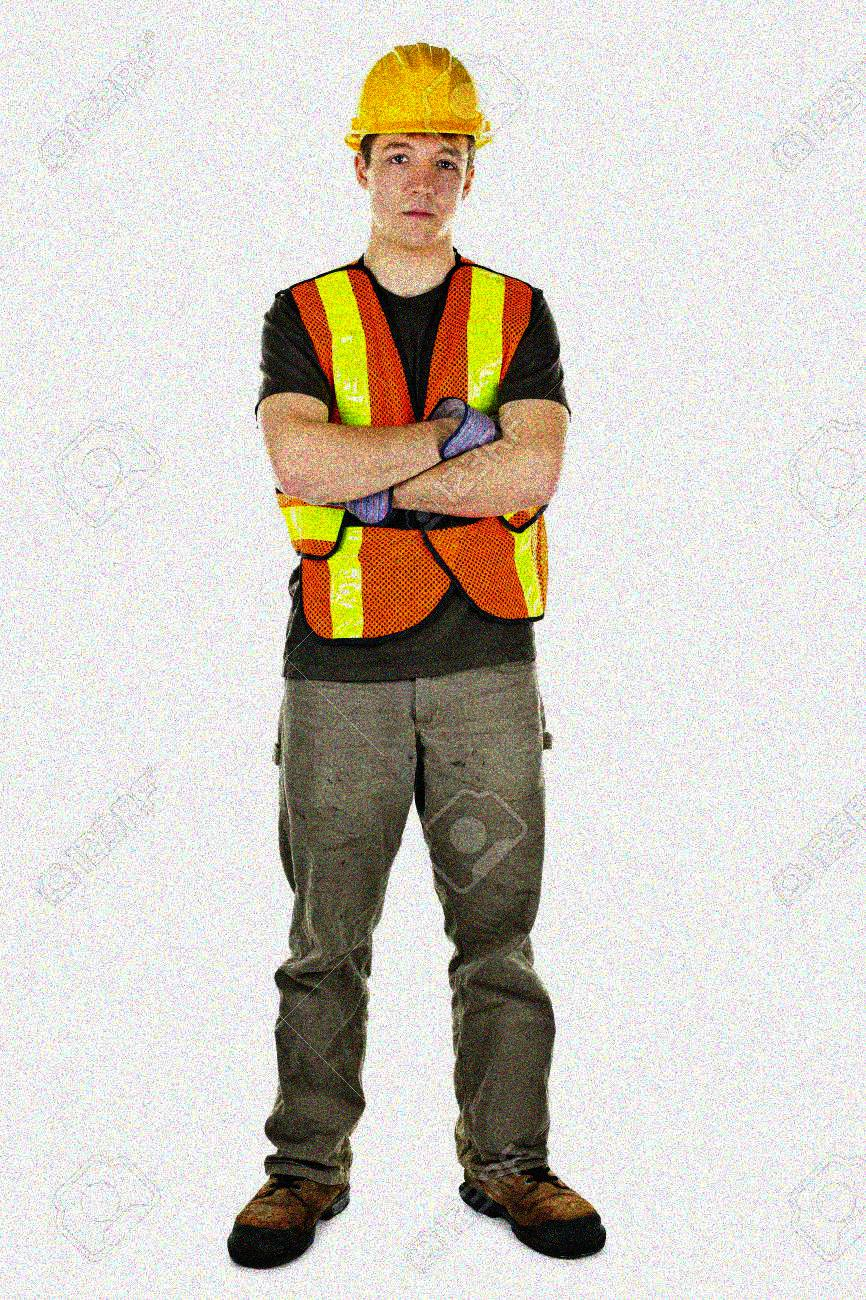helmet: (340, 37, 493, 248)
